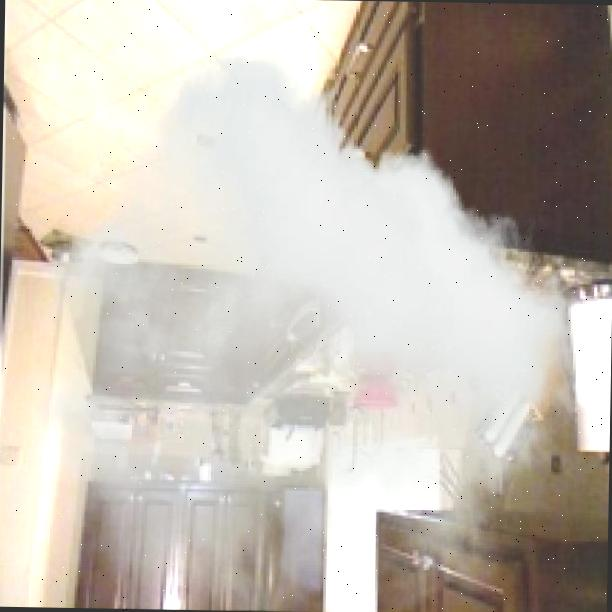smoke: (32, 46, 589, 612)
